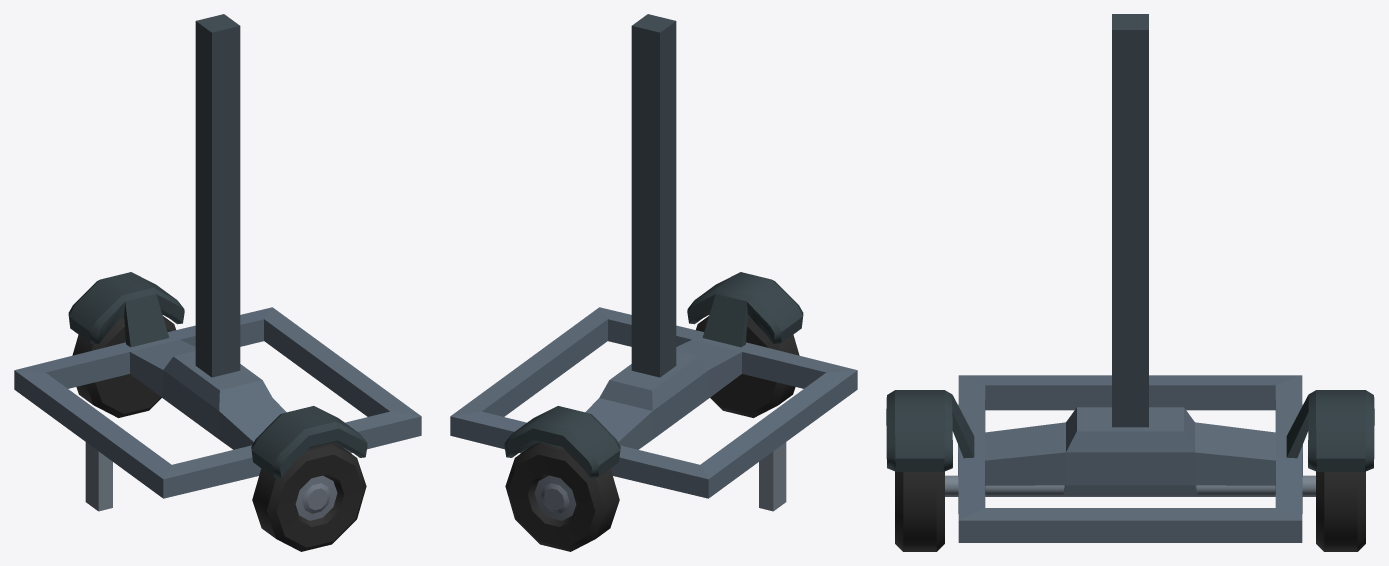
The model's file is SignHolder_1_A.fbx.
3 views of the same model, side by side, from view 1: azimuth 30°, elevation 25°; view 2: azimuth 150°, elevation 25°; view 3: azimuth 270°, elevation 25° (orthographic). The views are drawn at different scales.
Visible parts, largest first — view 1: SignHolder_1_A; view 2: SignHolder_1_A; view 3: SignHolder_1_A.
Part boxes in pixels (<box>): SignHolder_1_A: <box>14,14,421,551</box>; SignHolder_1_A: <box>450,14,857,551</box>; SignHolder_1_A: <box>886,14,1374,551</box>.
Size of the model in its own units: 76.63 by 128 by 109.
